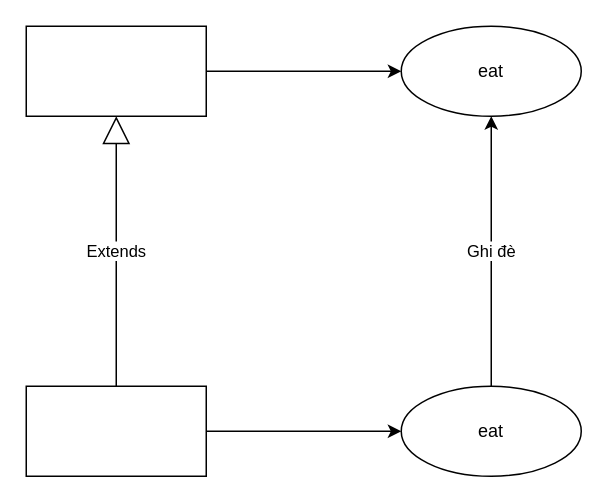
The diagram is 608 pixels wide and 503 high, and some of its shapes have lost their labels. Here are the shapes that lost their labels. From the top down, the centre of each, then its label:
At point (115, 70): "Class: Person".
At point (115, 430): "Class: Employee".
